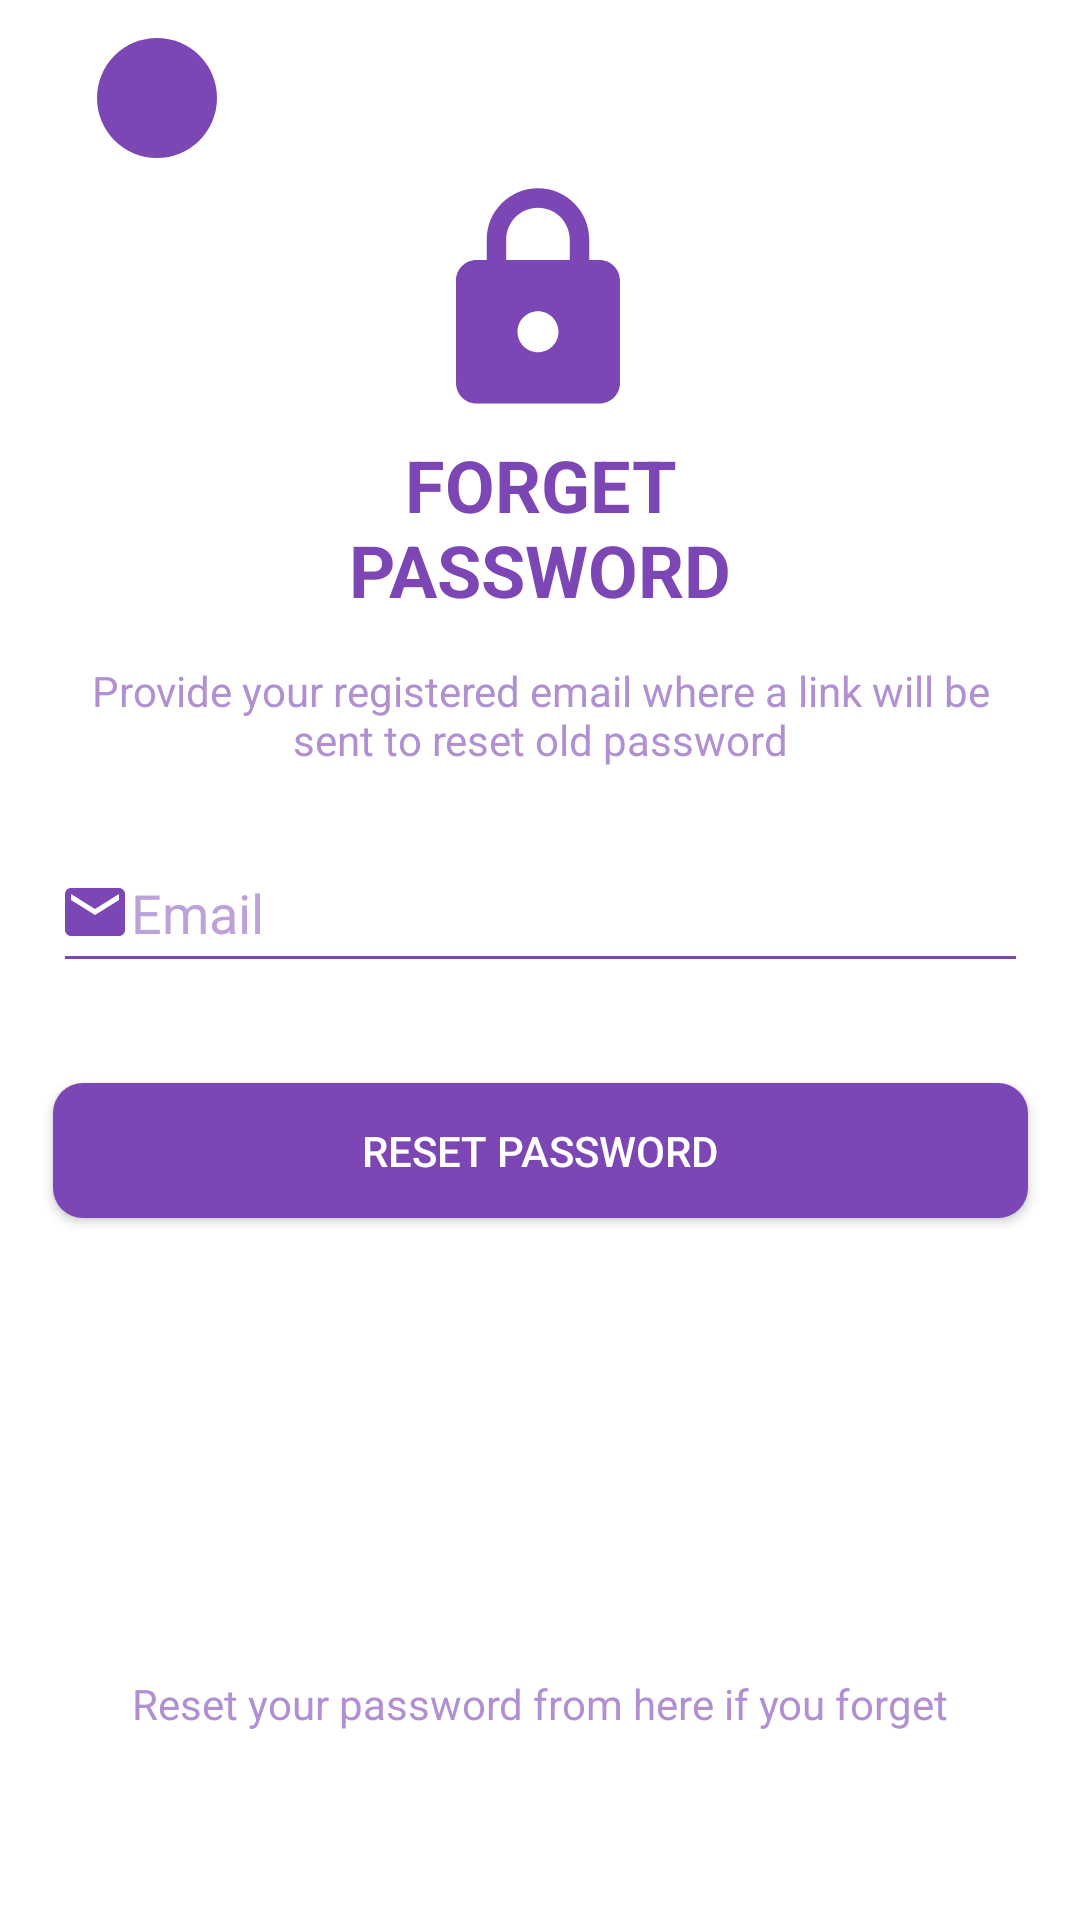

Where icons sit on this 1080 x 1920 app screen, as [left=x1, top=y1, right=x2, bottom=y2]:
lock: [left=456, top=188, right=620, bottom=404]
